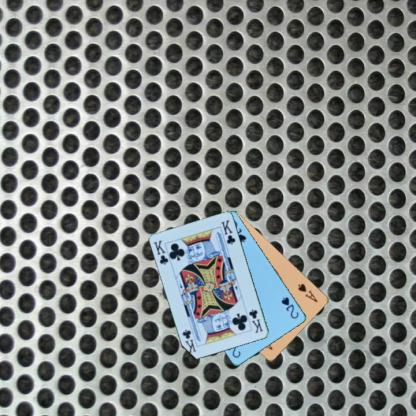2s: (279, 294, 300, 320)
As: (295, 281, 319, 303)
Kc: (151, 237, 170, 266), (247, 307, 264, 334)
